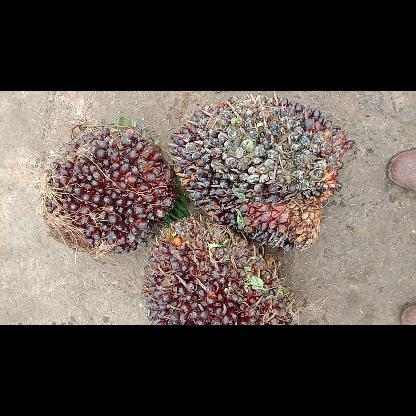Kurang masak: (41, 125, 175, 255), (142, 216, 292, 324)
TBS mentah: (172, 94, 356, 250)
